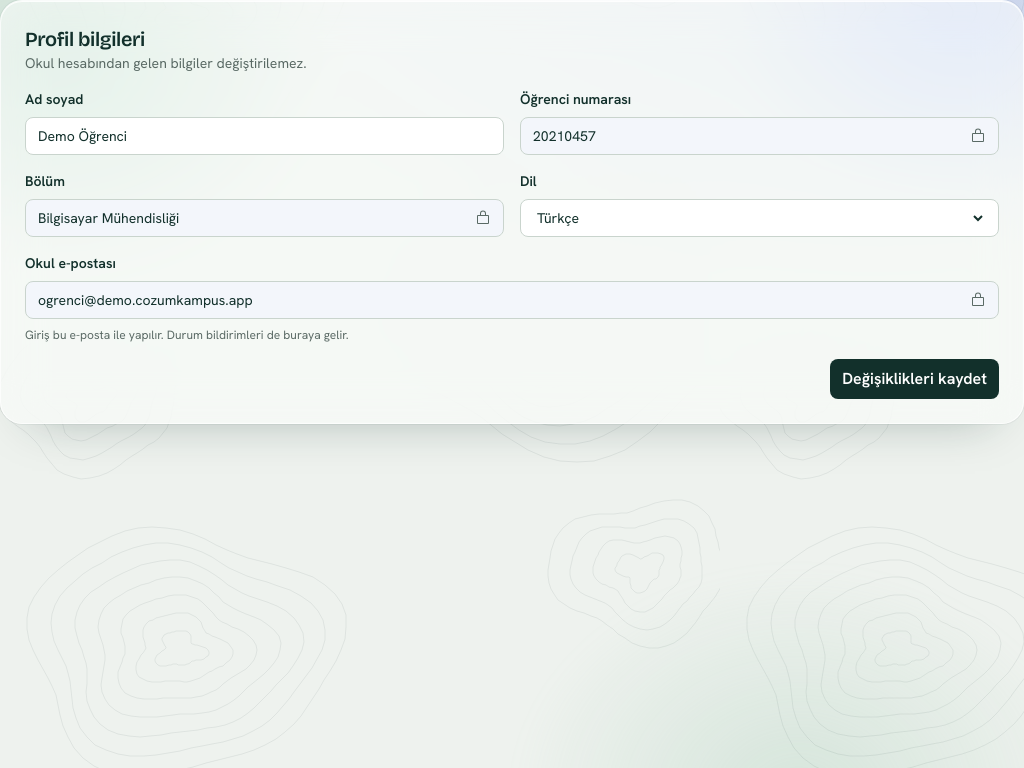
Test: ProfileForm › reports a failed save calmly
This screenshot has width=1024, height=768.
Click the button "Değişiklikleri kaydet" at [915, 379], box [830,359,999,399]
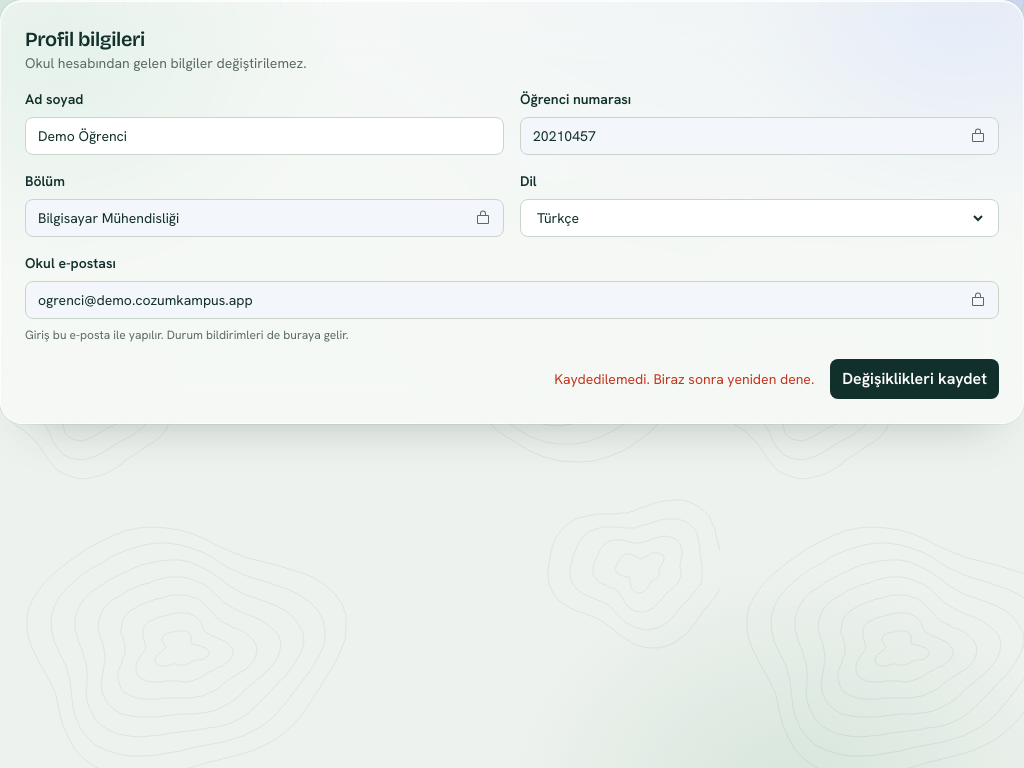
Now the text "Kaydedilemedi. Biraz sonra yeniden dene." is shown, box [554,369,814,389]
